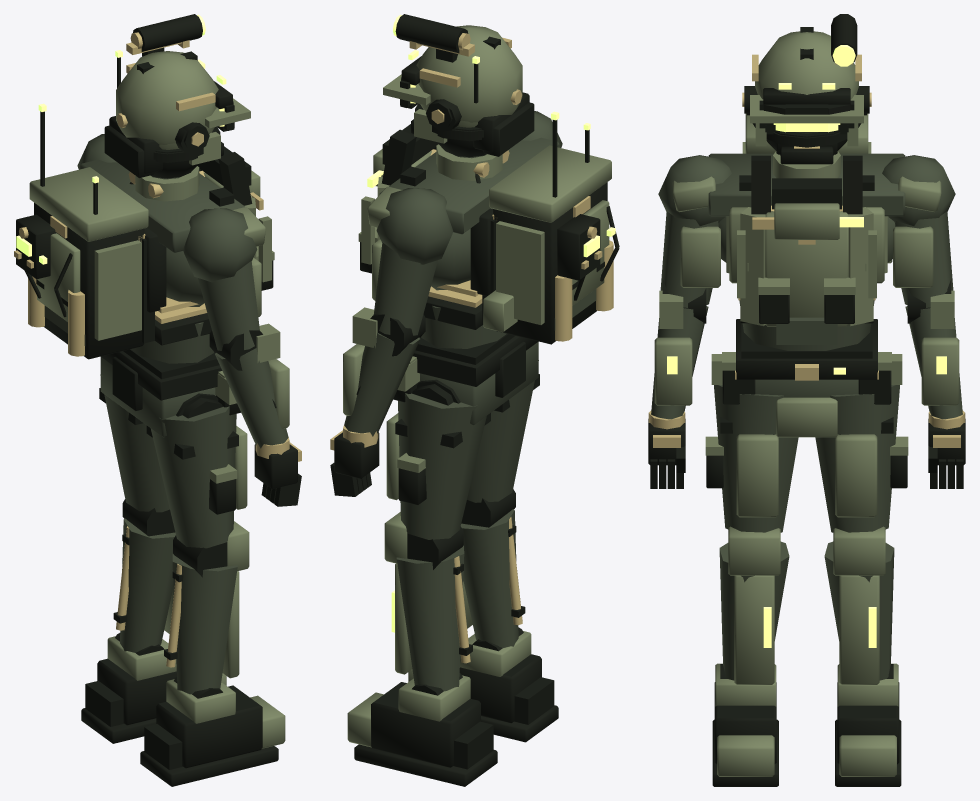
Rendered from soldado_francotirador.glb.
The picture shows the model from 3 angles, left to right: view 1: azimuth 30°, elevation 25°; view 2: azimuth 150°, elevation 25°; view 3: azimuth 270°, elevation 25°; orthographic projection. The views are drawn at different scales.
Visible parts, largest first — view 1: mov_pierna_der, mochila_comunicaciones, mov_pierna_izq, mov_brazo_der, mov_torso, casco_francotirador, pelvis, mov_cabeza, peto_ligero, mov_brazo_izq; view 2: mov_pierna_izq, mochila_comunicaciones, mov_pierna_der, mov_brazo_izq, mov_torso, casco_francotirador, pelvis, mov_cabeza, peto_ligero, mov_brazo_der; view 3: mov_pierna_der, mov_pierna_izq, peto_ligero, mov_brazo_der, mov_brazo_izq, mov_torso, casco_francotirador, pelvis, mov_cabeza, mochila_comunicaciones.
Part boxes in pixels (x1,y1,x2,y2): mov_pierna_der: (140,393,285,786); mochila_comunicaciones: (14,103,154,359); mov_pierna_izq: (81,374,226,743); mov_brazo_der: (183,207,301,506); mov_torso: (80,159,256,379); casco_francotirador: (104,14,250,178); pelvis: (100,351,240,437); mov_cabeza: (109,50,234,179); peto_ligero: (197,146,274,290); mov_brazo_izq: (77,134,116,169); mov_pierna_izq: (347,379,497,786); mochila_comunicaciones: (482,111,619,344); mov_pierna_der: (408,360,558,742); mov_brazo_izq: (330,186,453,496); mov_torso: (379,137,559,364); casco_francotirador: (383,14,534,157); pelvis: (393,336,538,425); mov_cabeza: (400,36,529,158); peto_ligero: (358,124,438,273); mov_brazo_der: (522,111,562,147); mov_pierna_der: (705,385,798,786); mov_pierna_izq: (815,385,908,786); peto_ligero: (737,155,876,344); mov_brazo_der: (648,155,731,488); mov_brazo_izq: (882,155,965,488); mov_torso: (708,151,905,358); casco_francotirador: (747,14,866,164); pelvis: (711,319,902,437); mov_cabeza: (742,27,871,154); mochila_comunicaciones: (742,113,892,263).
Bounding box in the file's own units: 0.597 × 1.85 × 0.725.
